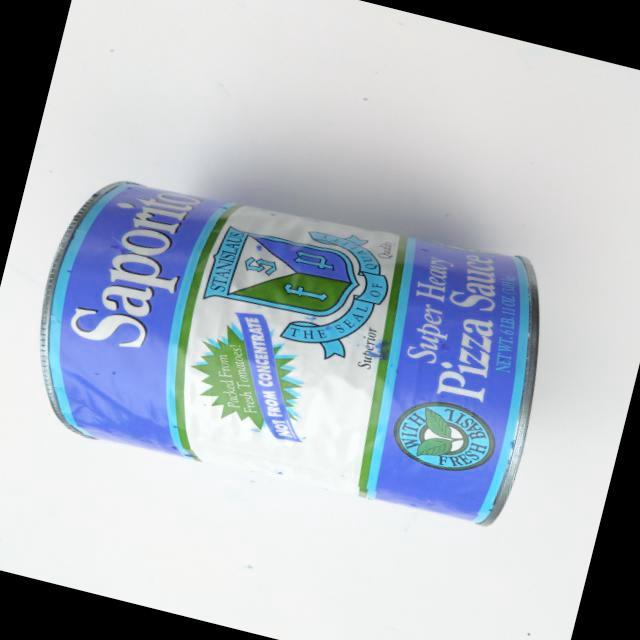metal: (0, 130, 579, 570)
